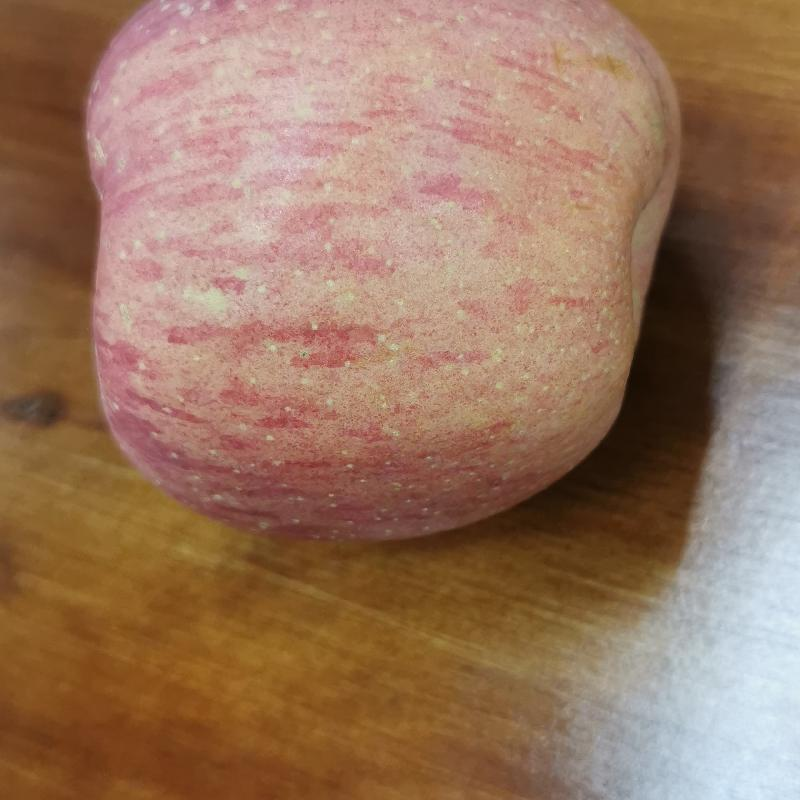apples: (73, 1, 691, 551)
